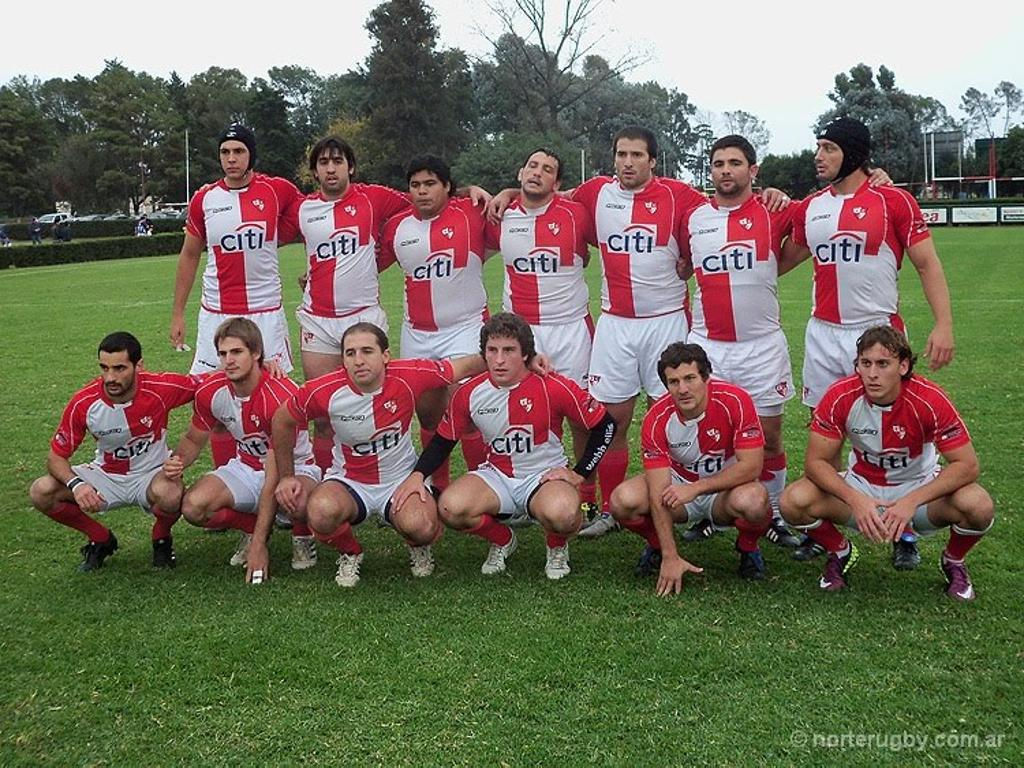face: (858, 346, 901, 398), (665, 362, 707, 410), (343, 336, 384, 385), (485, 332, 523, 384), (711, 149, 751, 194), (616, 138, 651, 187), (522, 151, 560, 196), (99, 350, 136, 396), (217, 337, 254, 380), (316, 146, 351, 191), (409, 170, 446, 212), (815, 139, 848, 179), (219, 140, 250, 179), (144, 216, 147, 220)
